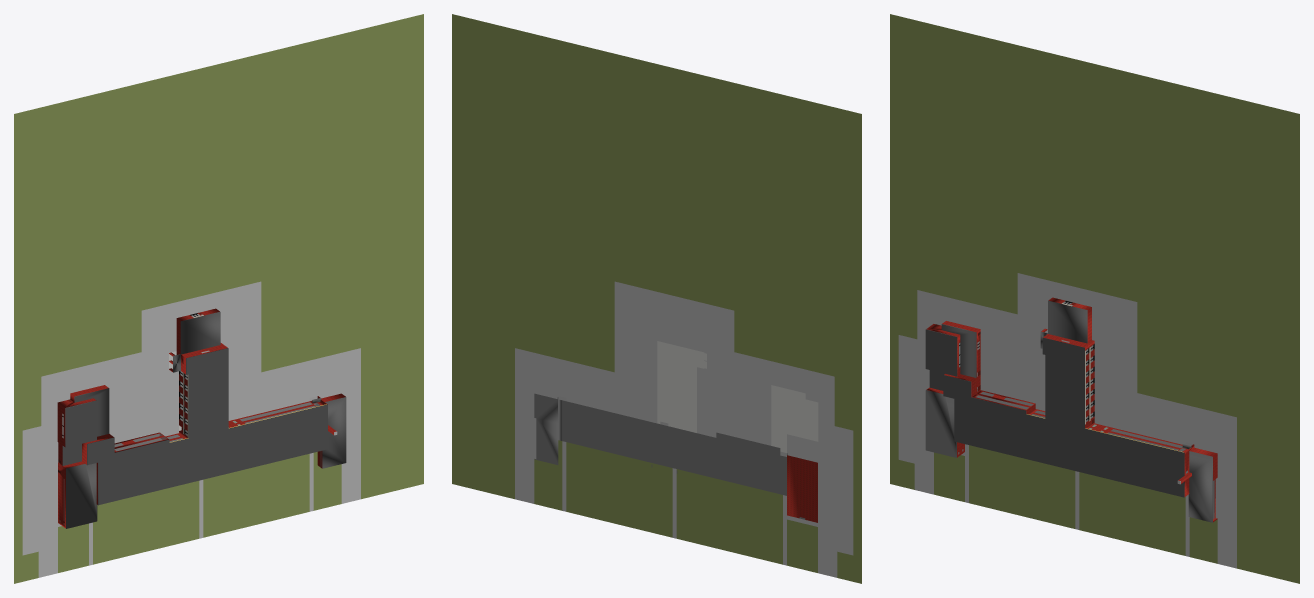
File: school1.obj
The picture shows the model from 3 angles, left to right: view 1: azimuth 30°, elevation 25°; view 2: azimuth 150°, elevation 25°; view 3: azimuth 330°, elevation 25°; orthographic projection.
Parts seen in each view (by area): view 1: defaultobject, g shool1; view 2: defaultobject, g shool1; view 3: defaultobject, g shool1.
Boxes of the visible parts, x1=… form: defaultobject: x1=14, y1=14, x2=423, y2=583; g shool1: x1=114, y1=402, x2=321, y2=466; defaultobject: x1=452, y1=14, x2=861, y2=583; g shool1: x1=534, y1=393, x2=805, y2=519; defaultobject: x1=890, y1=14, x2=1299, y2=583; g shool1: x1=958, y1=392, x2=1214, y2=518.
Bounding box in the file's own units: 192634 × 211023 × 13214.
